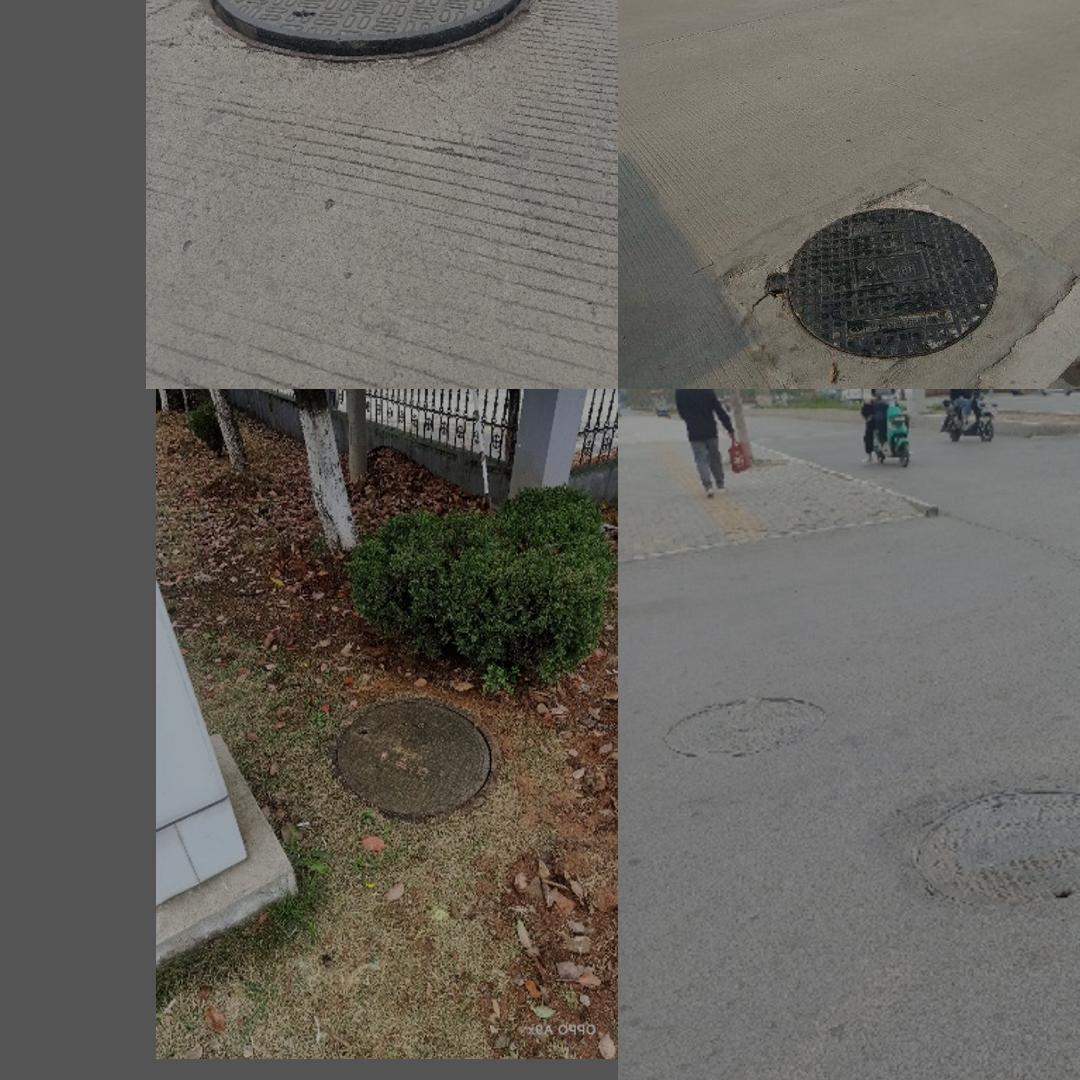good: (713, 176, 1079, 387), (330, 694, 501, 822), (200, 0, 532, 63), (912, 788, 1080, 901), (661, 696, 826, 756)
